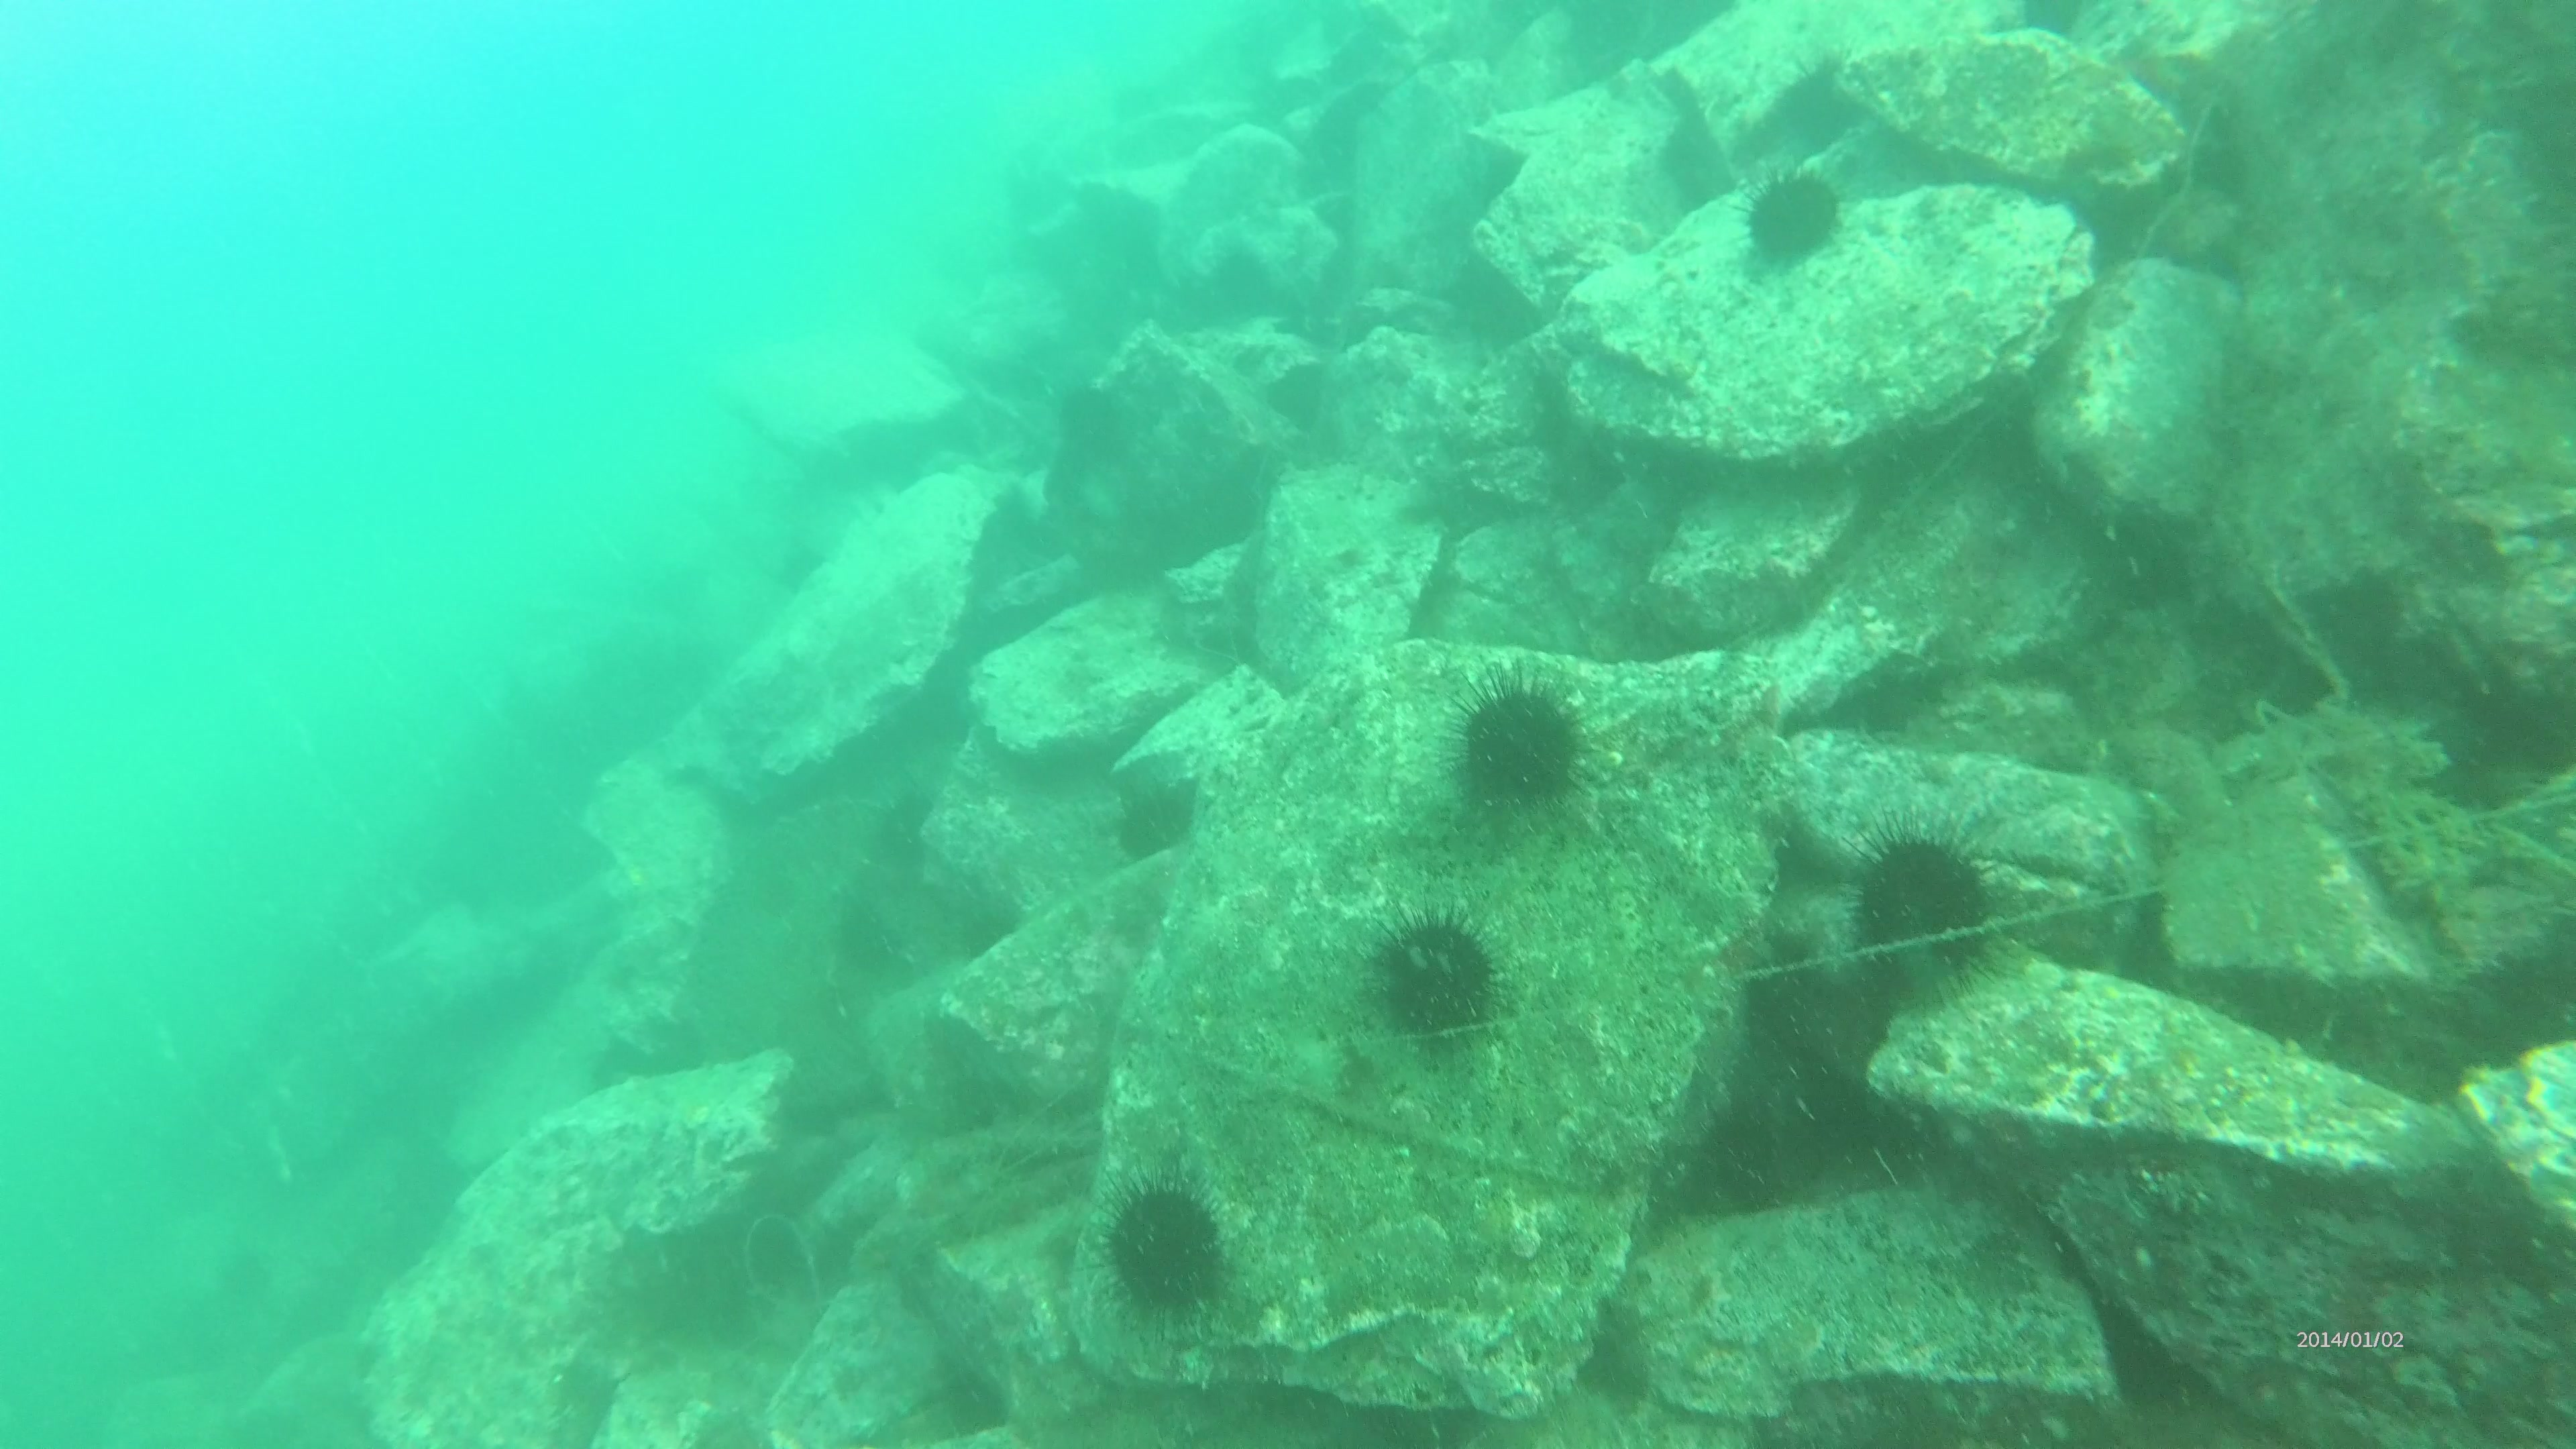echinus: (1838, 819, 2015, 1001), (1442, 653, 1608, 833), (1077, 1162, 1246, 1323), (1362, 895, 1518, 1053), (1727, 156, 1851, 285), (1102, 777, 1205, 874), (874, 780, 970, 874), (832, 904, 924, 989), (1042, 379, 1132, 464), (1207, 253, 1272, 322)
